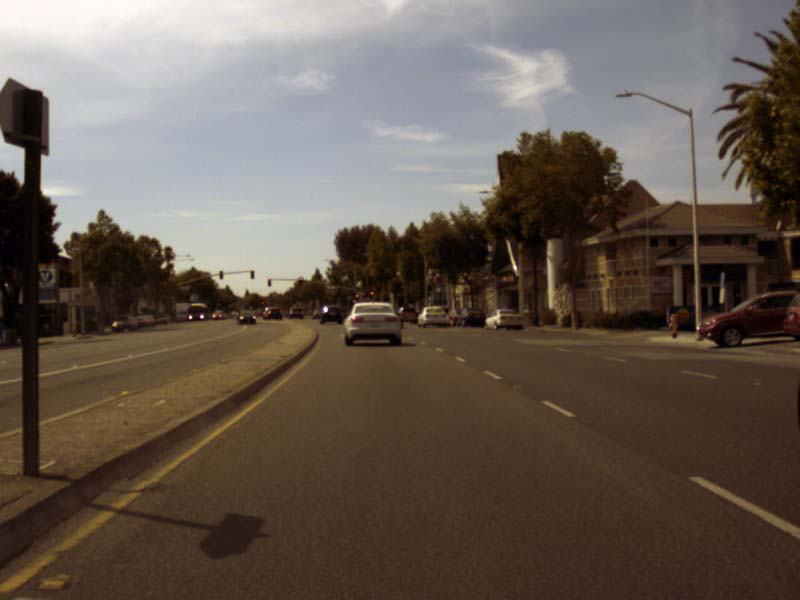Red: (298, 277, 303, 285), (355, 294, 359, 301), (267, 278, 270, 285)
Yellow: (369, 287, 373, 298)
